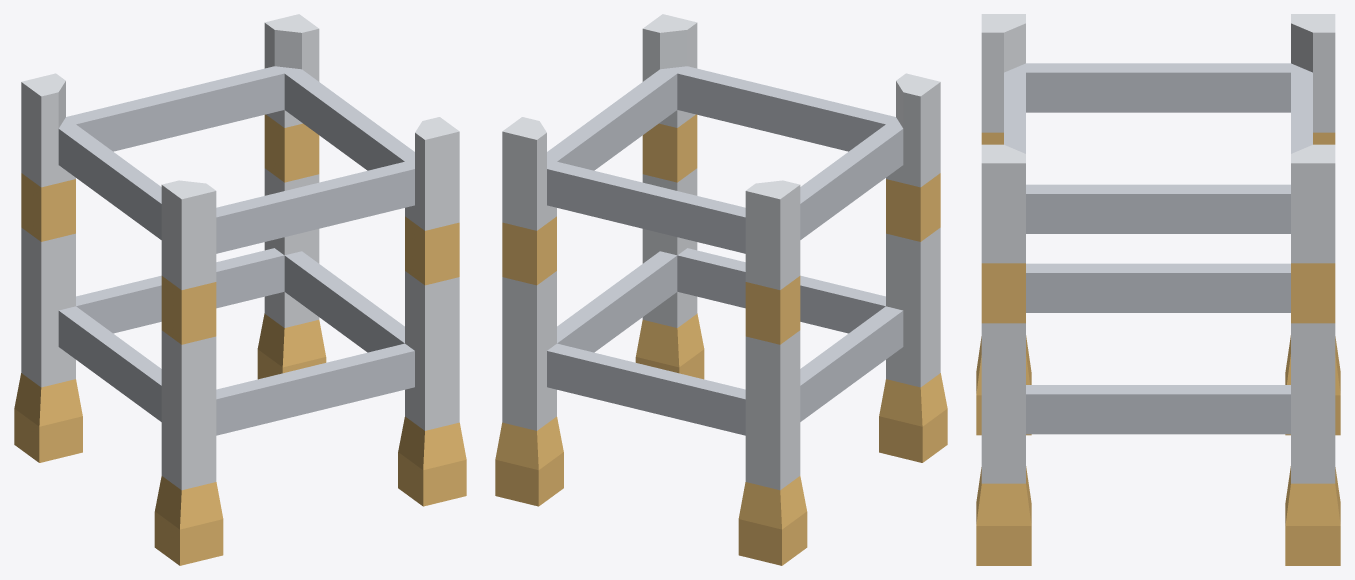
The model's file is supports_high.gltf.
The picture shows the model from 3 angles, left to right: view 1: azimuth 30°, elevation 25°; view 2: azimuth 150°, elevation 25°; view 3: azimuth 270°, elevation 25°; orthographic projection. The views are drawn at different scales.
Parts seen in each view (by area): view 1: supports_high; view 2: supports_high; view 3: supports_high.
Boxes of the visible parts, x1,y1,x2,y2 form: supports_high: (14, 14, 466, 565); supports_high: (495, 14, 947, 565); supports_high: (976, 14, 1340, 565).
Size of the model in its own units: 0.825 by 1 by 0.825.
